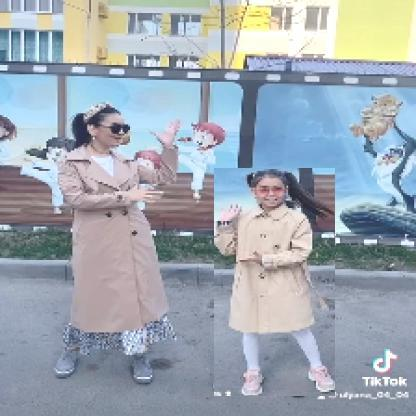child: (215, 169, 337, 398)
